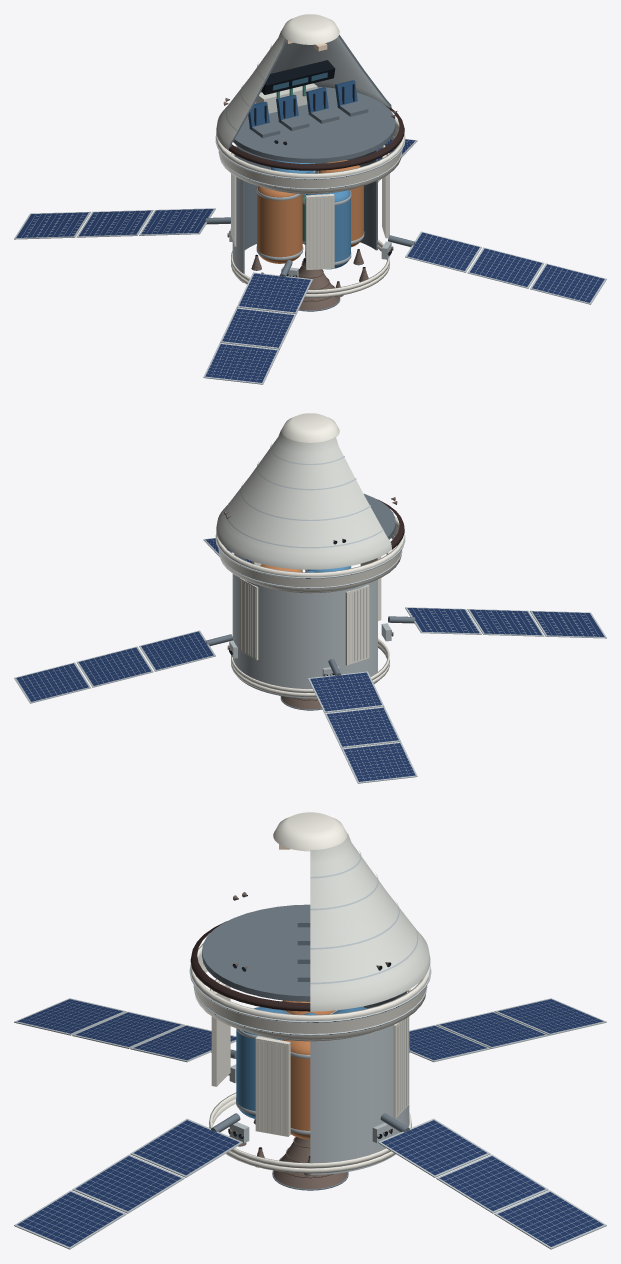
The model's file is orion_cutaway.glb.
3 renders of one model, top to bottom at view 1: azimuth 30°, elevation 25°; view 2: azimuth 150°, elevation 25°; view 3: azimuth 270°, elevation 25°, orthographic. The views are drawn at different scales.
Parts seen in each view (by area): view 1: orion_cm.cutaway.mesh_Machined_steel, orion_cma.mesh_Warm_white_enamel, orion_esm.cutaway.propellant_04.mesh_Cutaway_propellant, orion_cm.mesh_Satin_aluminum, orion_esm.mesh_Machined_steel, orion_esm.radiator_04.mesh_Warm_white_enamel, orion_cm.mesh_Pale_thermal_blanket, orion_esm.wing_04.panel_01.cells.mesh_Indigo_solar_cells, orion_esm.wing_04.panel_01.panel_02.cells.mesh_Indigo_solar_, orion_esm.wing_04.panel_01.panel_02.panel_03.cells.mesh_Indi, orion_esm.wing_01.panel_01.cells.mesh_Indigo_solar_cells, orion_esm.wing_01.panel_01.panel_02.panel_03.cells.mesh_Indi (+25 smaller); view 2: orion_cm.mesh_Pale_thermal_blanket, orion_esm.mesh_Satin_aluminum, orion_cma.mesh_Warm_white_enamel, orion_esm.wing_03.panel_01.cells.mesh_Indigo_solar_cells, orion_esm.wing_03.panel_01.panel_02.cells.mesh_Indigo_solar_, orion_esm.wing_03.panel_01.panel_02.panel_03.cells.mesh_Indi, orion_esm.radiator_03.mesh_Warm_white_enamel, orion_esm.wing_02.panel_01.cells.mesh_Indigo_solar_cells, orion_esm.wing_02.panel_01.panel_02.panel_03.cells.mesh_Indi, orion_esm.wing_02.panel_01.panel_02.cells.mesh_Indigo_solar_, orion_esm.radiator_02.mesh_Warm_white_enamel, orion_esm.wing_04.panel_01.panel_02.panel_03.cells.mesh_Indi (+18 smaller); view 3: orion_cm.mesh_Pale_thermal_blanket, orion_esm.mesh_Satin_aluminum, orion_cm.cutaway.mesh_Machined_steel, orion_cma.mesh_Warm_white_enamel, orion_esm.radiator_01.mesh_Warm_white_enamel, orion_esm.wing_01.panel_01.cells.mesh_Indigo_solar_cells, orion_esm.wing_02.panel_01.cells.mesh_Indigo_solar_cells, orion_esm.wing_01.panel_01.panel_02.cells.mesh_Indigo_solar_, orion_esm.wing_02.panel_01.panel_02.cells.mesh_Indigo_solar_, orion_esm.wing_01.panel_01.panel_02.panel_03.cells.mesh_Indi, orion_esm.wing_02.panel_01.panel_02.panel_03.cells.mesh_Indi, orion_esm.mesh_Warm_white_enamel (+29 smaller).
Part boxes in pixels (x1,y1,x2,y2): orion_cm.cutaway.mesh_Machined_steel: [233, 87, 395, 163]; orion_cma.mesh_Warm_white_enamel: [216, 118, 404, 192]; orion_esm.cutaway.propellant_04.mesh_Cutaway_propellant: [257, 186, 302, 263]; orion_cm.mesh_Satin_aluminum: [225, 36, 389, 130]; orion_esm.mesh_Machined_steel: [234, 146, 377, 282]; orion_esm.radiator_04.mesh_Warm_white_enamel: [306, 194, 334, 269]; orion_cm.mesh_Pale_thermal_blanket: [216, 31, 284, 150]; orion_esm.wing_04.panel_01.cells.mesh_Indigo_solar_cells: [239, 273, 310, 312]; orion_esm.wing_04.panel_01.panel_02.cells.mesh_Indigo_solar_: [222, 308, 293, 347]; orion_esm.wing_04.panel_01.panel_02.panel_03.cells.mesh_Indi: [205, 344, 277, 382]; orion_esm.wing_01.panel_01.cells.mesh_Indigo_solar_cells: [407, 232, 479, 270]; orion_esm.wing_01.panel_01.panel_02.panel_03.cells.mesh_Indi: [532, 264, 604, 302]; orion_cm.mesh_Pale_thermal_blanket: [216, 430, 391, 569]; orion_esm.mesh_Satin_aluminum: [232, 574, 377, 698]; orion_cma.mesh_Warm_white_enamel: [216, 516, 404, 591]; orion_esm.wing_03.panel_01.cells.mesh_Indigo_solar_cells: [310, 672, 381, 711]; orion_esm.wing_03.panel_01.panel_02.cells.mesh_Indigo_solar_: [327, 707, 398, 746]; orion_esm.wing_03.panel_01.panel_02.panel_03.cells.mesh_Indi: [343, 743, 415, 781]; orion_esm.radiator_03.mesh_Warm_white_enamel: [345, 585, 369, 665]; orion_esm.wing_02.panel_01.cells.mesh_Indigo_solar_cells: [141, 631, 213, 669]; orion_esm.wing_02.panel_01.panel_02.panel_03.cells.mesh_Indi: [16, 663, 88, 701]; orion_esm.wing_02.panel_01.panel_02.cells.mesh_Indigo_solar_: [78, 647, 150, 685]; orion_esm.radiator_02.mesh_Warm_white_enamel: [239, 578, 258, 660]; orion_esm.wing_04.panel_01.panel_02.panel_03.cells.mesh_Indi: [532, 611, 604, 636]; orion_cm.mesh_Pale_thermal_blanket: [310, 833, 430, 1011]; orion_esm.mesh_Satin_aluminum: [310, 1025, 409, 1174]; orion_cm.cutaway.mesh_Machined_steel: [202, 904, 310, 1001]; orion_cma.mesh_Warm_white_enamel: [190, 943, 430, 1039]; orion_esm.radiator_01.mesh_Warm_white_enamel: [255, 1036, 290, 1136]; orion_esm.wing_01.panel_01.cells.mesh_Indigo_solar_cells: [133, 1120, 239, 1175]; orion_esm.wing_02.panel_01.cells.mesh_Indigo_solar_cells: [381, 1120, 487, 1175]; orion_esm.wing_01.panel_01.panel_02.cells.mesh_Indigo_solar_: [76, 1156, 181, 1210]; orion_esm.wing_02.panel_01.panel_02.cells.mesh_Indigo_solar_: [439, 1156, 544, 1210]; orion_esm.wing_01.panel_01.panel_02.panel_03.cells.mesh_Indi: [17, 1192, 122, 1246]; orion_esm.wing_02.panel_01.panel_02.panel_03.cells.mesh_Indi: [498, 1192, 603, 1246]; orion_esm.mesh_Warm_white_enamel: [209, 979, 411, 1173].
Bounding box in the file's own units: 12.4 × 8.13 × 12.4.
